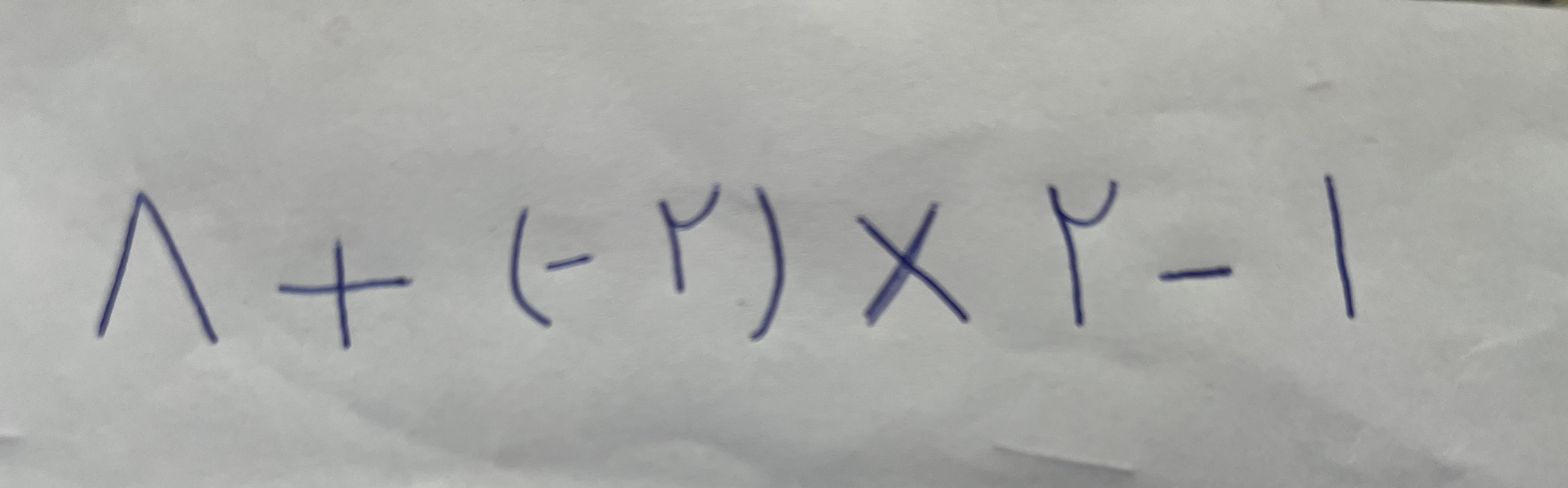character: (98, 187, 213, 350), (857, 199, 965, 319), (282, 240, 407, 341), (1049, 172, 1115, 321), (659, 181, 723, 289), (749, 181, 784, 355), (1320, 162, 1360, 314), (505, 187, 542, 331), (1159, 260, 1230, 282), (547, 247, 591, 263)
